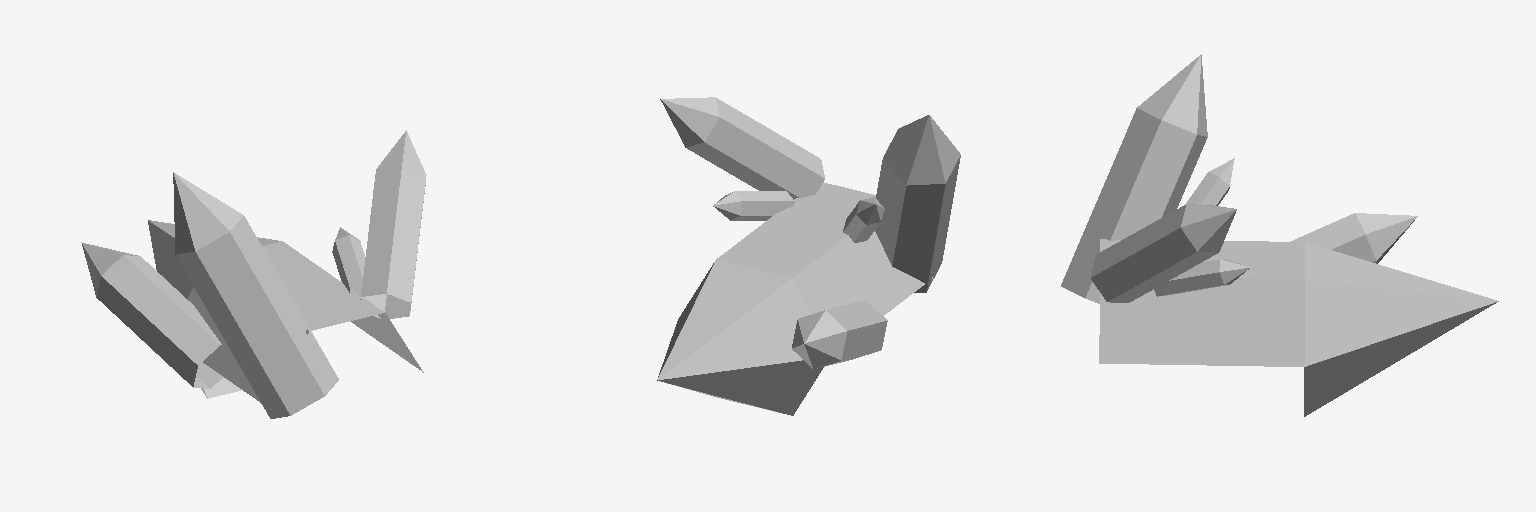
Rendered from Cristal.obj.
3 renders of one model, left to right at view 1: azimuth 30°, elevation 25°; view 2: azimuth 150°, elevation 25°; view 3: azimuth 270°, elevation 25°, orthographic.
Visible parts, largest first — view 1: Cristaux Cristal_A_4, Cristaux Cristal_BIG, Cristaux Cristal_A_1, Cristal_A_5 Cristaux, Cristaux Cristal_A_3; view 2: Cristaux Cristal_BIG, Cristaux Cristal_A_4, Cristal_A_5 Cristaux, Cristaux Cristal_A_1, Cristaux Cristal_A_3, Cristaux Cristal_A_2; view 3: Cristaux Cristal_BIG, Cristaux Cristal_A_4, Cristal_A_5 Cristaux, Cristaux Cristal_A_1, Cristaux Cristal_A_3, Cristaux Cristal_A_2.
Part boxes in pixels (x1,y1,x2,y2): Cristaux Cristal_A_4: (173,172,338,418); Cristaux Cristal_BIG: (148,220,423,409); Cristaux Cristal_A_1: (81,242,222,388); Cristal_A_5 Cristaux: (360,130,426,318); Cristaux Cristal_A_3: (332,227,364,294); Cristaux Cristal_BIG: (657,182,932,415); Cristaux Cristal_A_4: (875,115,960,292); Cristal_A_5 Cristaux: (660,97,824,199); Cristaux Cristal_A_1: (792,300,887,369); Cristaux Cristal_A_3: (713,191,794,220); Cristaux Cristal_A_2: (843,197,884,242); Cristaux Cristal_BIG: (1099,239,1498,416); Cristaux Cristal_A_4: (1061,54,1207,303); Cristal_A_5 Cristaux: (1091,204,1236,302); Cristaux Cristal_A_1: (1290,213,1417,263); Cristaux Cristal_A_3: (1154,259,1250,296); Cristaux Cristal_A_2: (1185,158,1234,205).
Bounding box in the file's own units: 135 × 142 × 198.